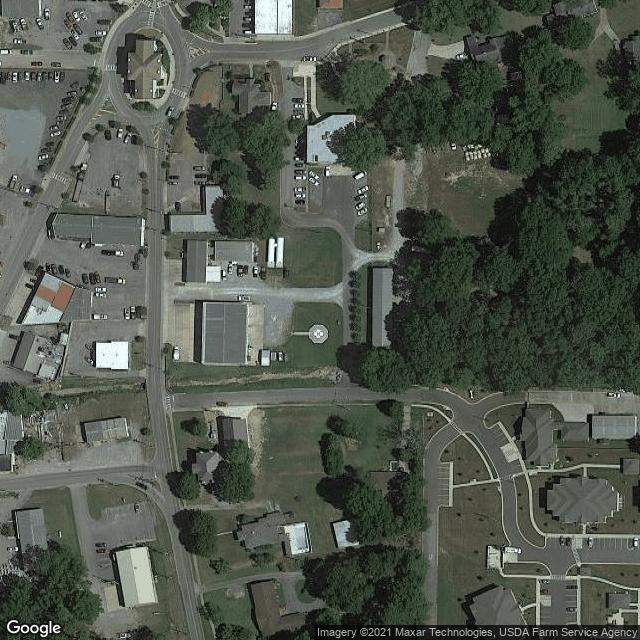Helipad: (307, 323, 330, 345)
